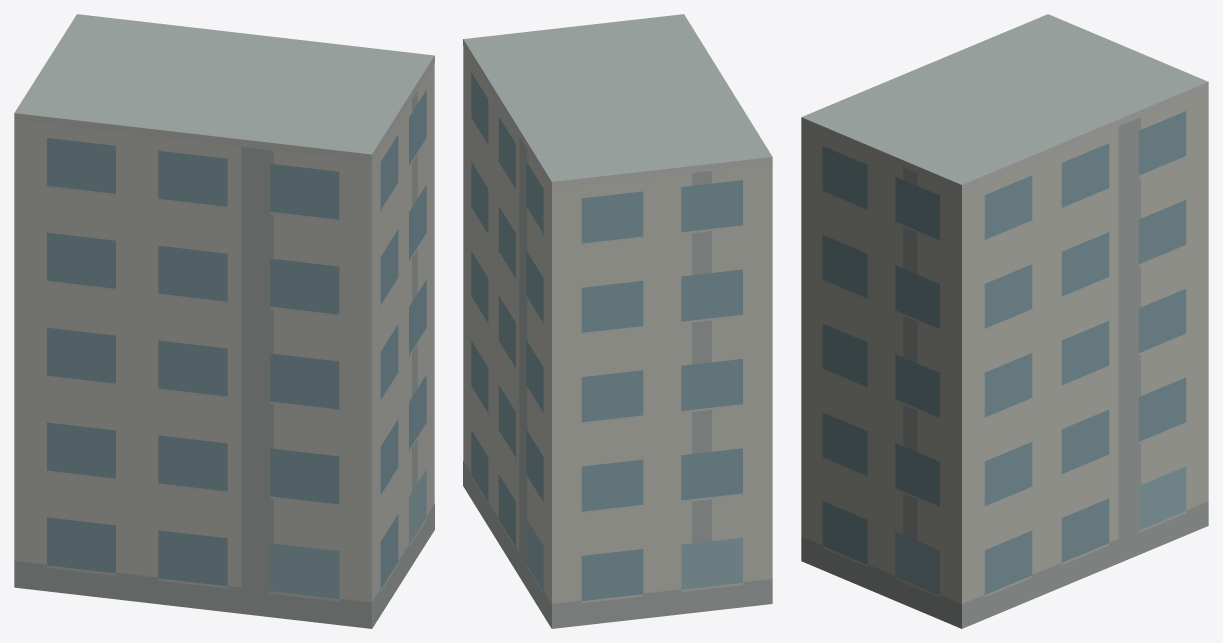
The model's file is survey-upis-32757015.glb.
3 renders of one model, left to right at view 1: azimuth 30°, elevation 25°; view 2: azimuth 150°, elevation 25°; view 3: azimuth 270°, elevation 25°, orthographic. The views are drawn at different scales.
Parts seen in each view (by area): view 1: survey-upis-32757015.tmp; view 2: survey-upis-32757015.tmp; view 3: survey-upis-32757015.tmp.
Boxes of the visible parts, <box> form: survey-upis-32757015.tmp: <box>14,14,434,628</box>; survey-upis-32757015.tmp: <box>463,14,772,628</box>; survey-upis-32757015.tmp: <box>801,14,1208,628</box>.
Bounding box in the file's own units: 12.73 × 15.4 × 12.82.
